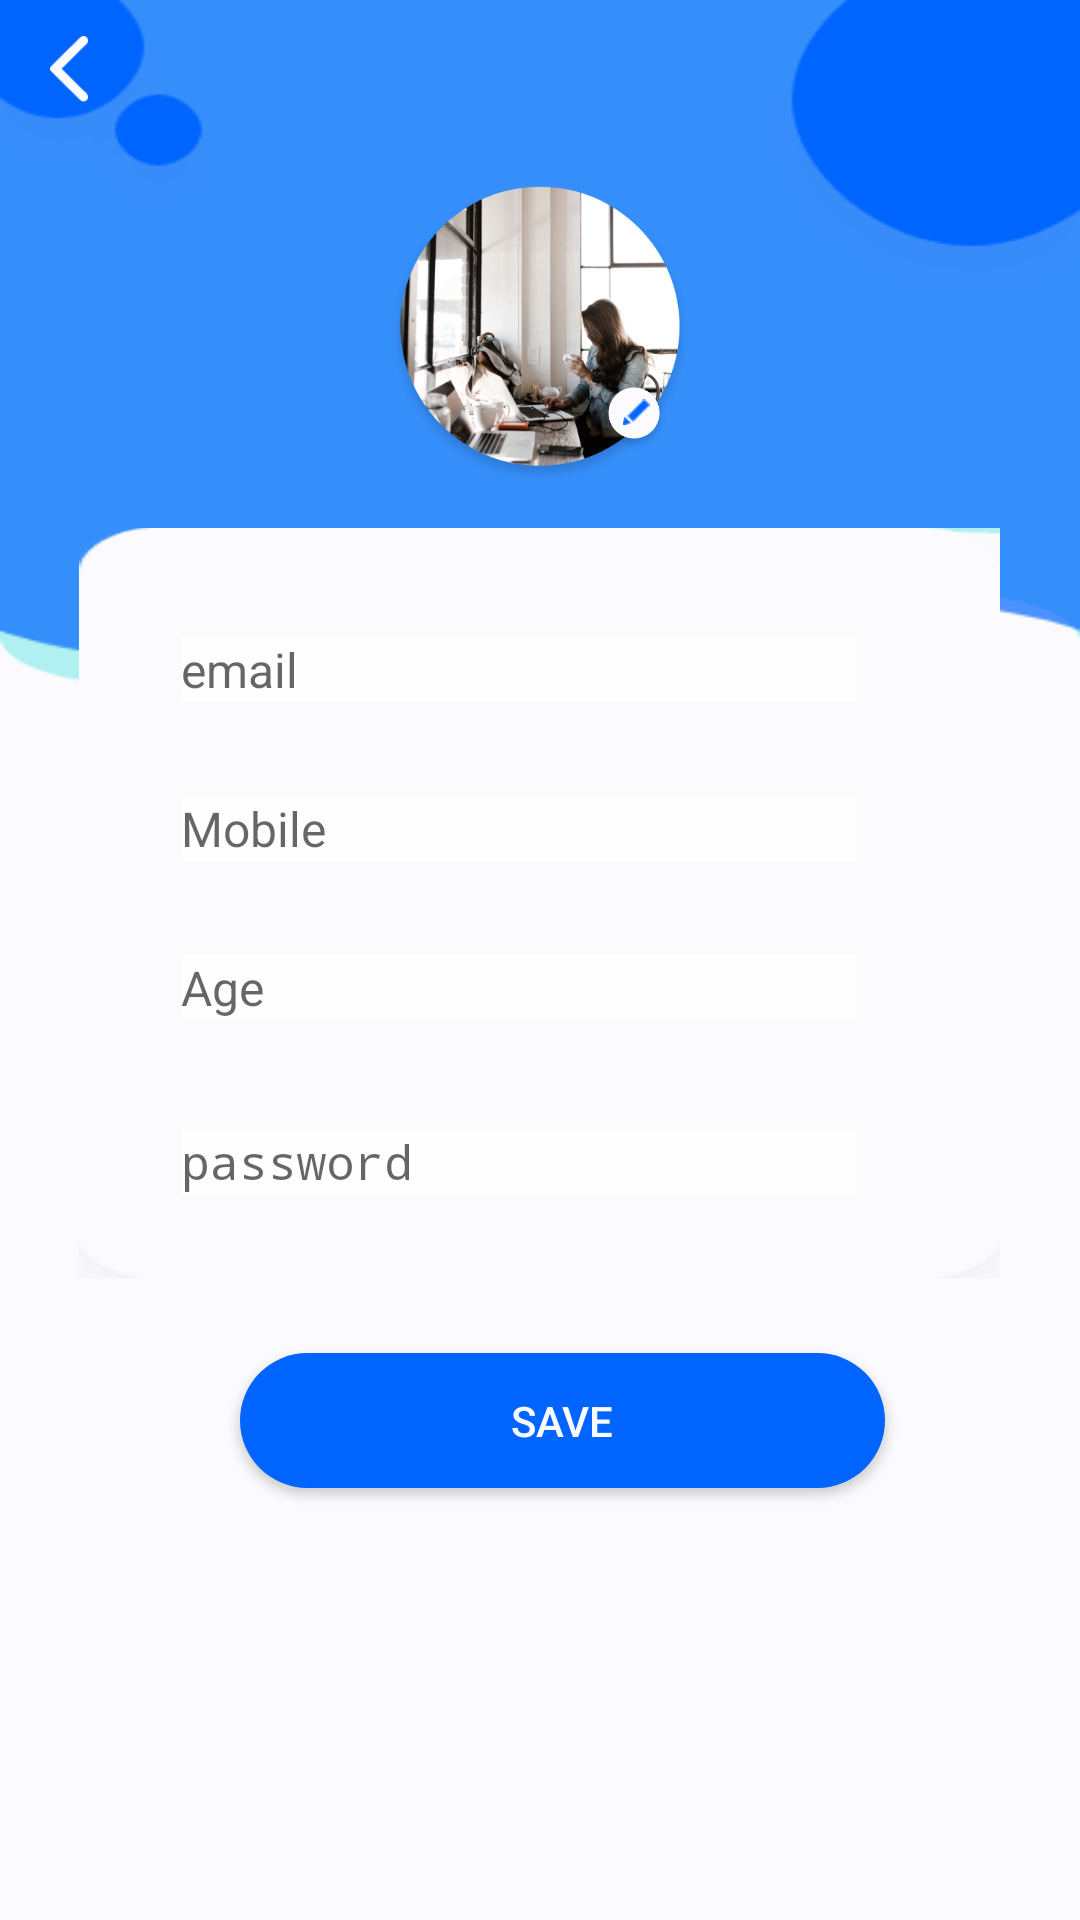

Screen size 1080×1920. Icon name, then its center in pixels as [x,y]:
sham left: [69,69]
